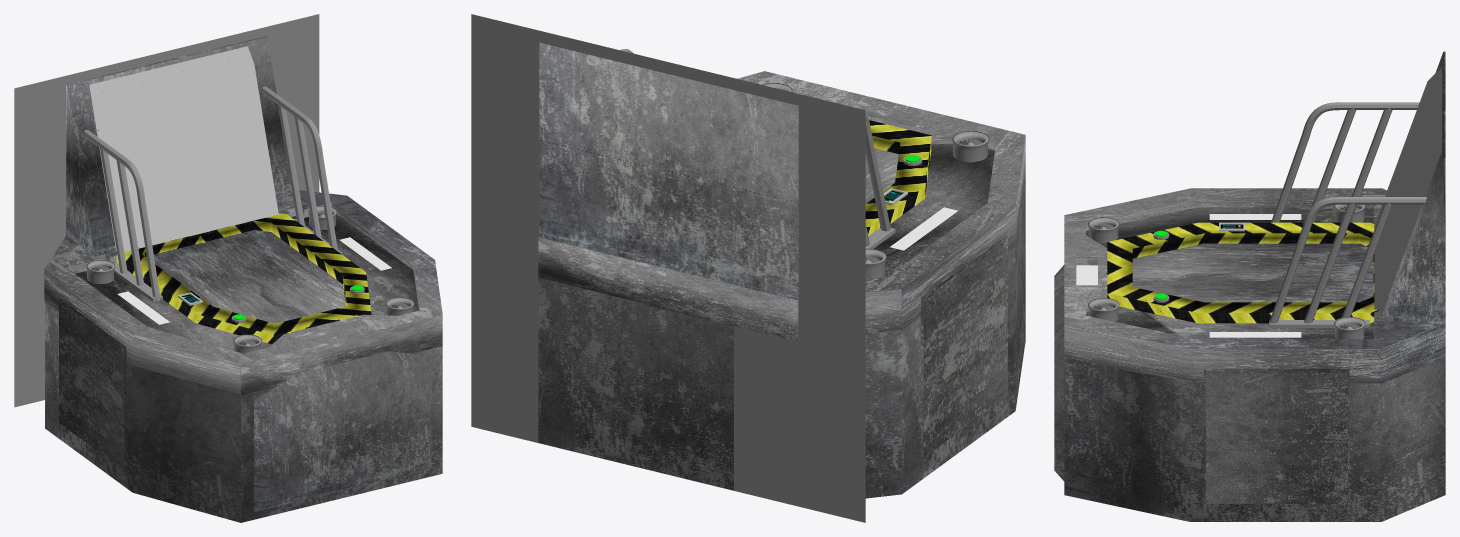
Rendered from EndDoor.obj.
3 views of the same model, side by side, from view 1: azimuth 30°, elevation 25°; view 2: azimuth 150°, elevation 25°; view 3: azimuth 270°, elevation 25° (orthographic). The views are drawn at different scales.
Visible parts, largest first — view 1: Mesh90, Box71, Box1094, Line375, Plane07, Line18, Box1079, Line13, Line10, Line15, Line14, Line29 (+8 smaller); view 2: Plane07, Line18, Line375, Mesh90, Box1079, Line14, Line29, Line10, Tube100, Plane08; view 3: Line375, Mesh90, Box1078, Line10, Box71, Line18, Line15, Line14, Line13, Box1094, Line19, Line29 (+11 smaller).
Part boxes in pixels (x1,y1,x2,y2): Mesh90: (44,190,442,394); Box71: (89,46,278,251); Box1094: (254,351,432,512); Line375: (45,302,442,522); Plane07: (14,14,319,407); Line18: (66,36,294,256); Box1079: (59,298,126,470); Line13: (204,230,345,316); Line10: (146,243,302,323); Line15: (200,213,371,324); Line14: (116,234,322,344); Line29: (83,129,160,300); Plane07: (471,14,865,522); Line18: (539,42,798,300); Line375: (538,176,1025,498); Mesh90: (538,71,1025,341); Box1079: (921,235,1007,458); Line14: (865,120,931,235); Line29: (850,105,890,231); Line10: (865,148,898,203); Tube100: (951,131,989,162); Plane08: (890,207,957,250); Line375: (1064,356,1445,521); Mesh90: (1064,188,1445,383); Box1078: (1204,368,1349,503); Line10: (1132,243,1373,281); Box71: (1374,67,1441,310); Line18: (1383,51,1445,321); Line15: (1107,267,1378,323); Line14: (1107,222,1374,267); Line13: (1132,275,1373,302); Box1094: (1054,265,1064,481); Line19: (1268,197,1426,325); Line29: (1271,102,1419,222).
Size of the model in its own units: 39.38 by 39.46 by 40.21.
